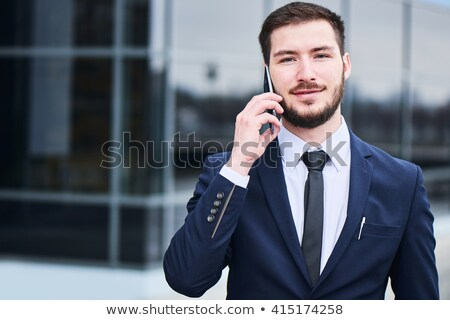phone: (252, 69, 281, 132)
talk: (230, 43, 345, 162)
